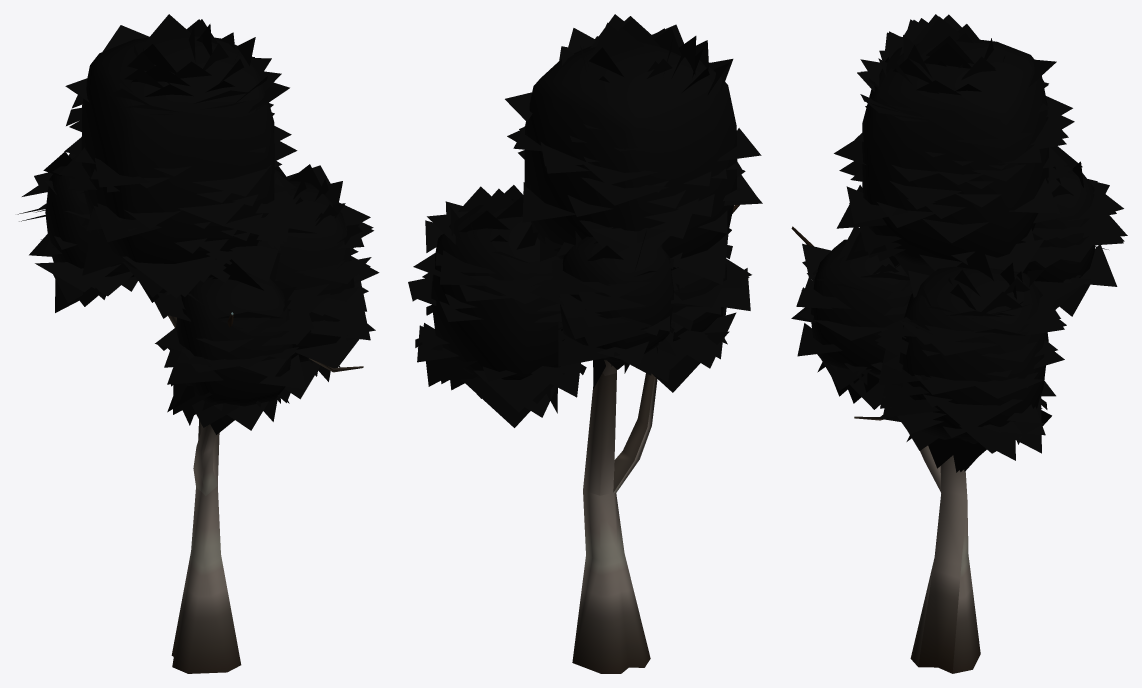
File: Tree_5J.fbx
3 renders of one model, left to right at view 1: azimuth 30°, elevation 25°; view 2: azimuth 150°, elevation 25°; view 3: azimuth 270°, elevation 25°, orthographic. The views are drawn at different scales.
Visible parts, largest first — view 1: Tree_5J; view 2: Tree_5J; view 3: Tree_5J.
Part boxes in pixels (bbox=[...]): Tree_5J: bbox=[17, 14, 379, 673]; Tree_5J: bbox=[408, 14, 762, 673]; Tree_5J: bbox=[791, 14, 1127, 673].
Size of the model in its own units: 5.27 by 10.49 by 5.19.
